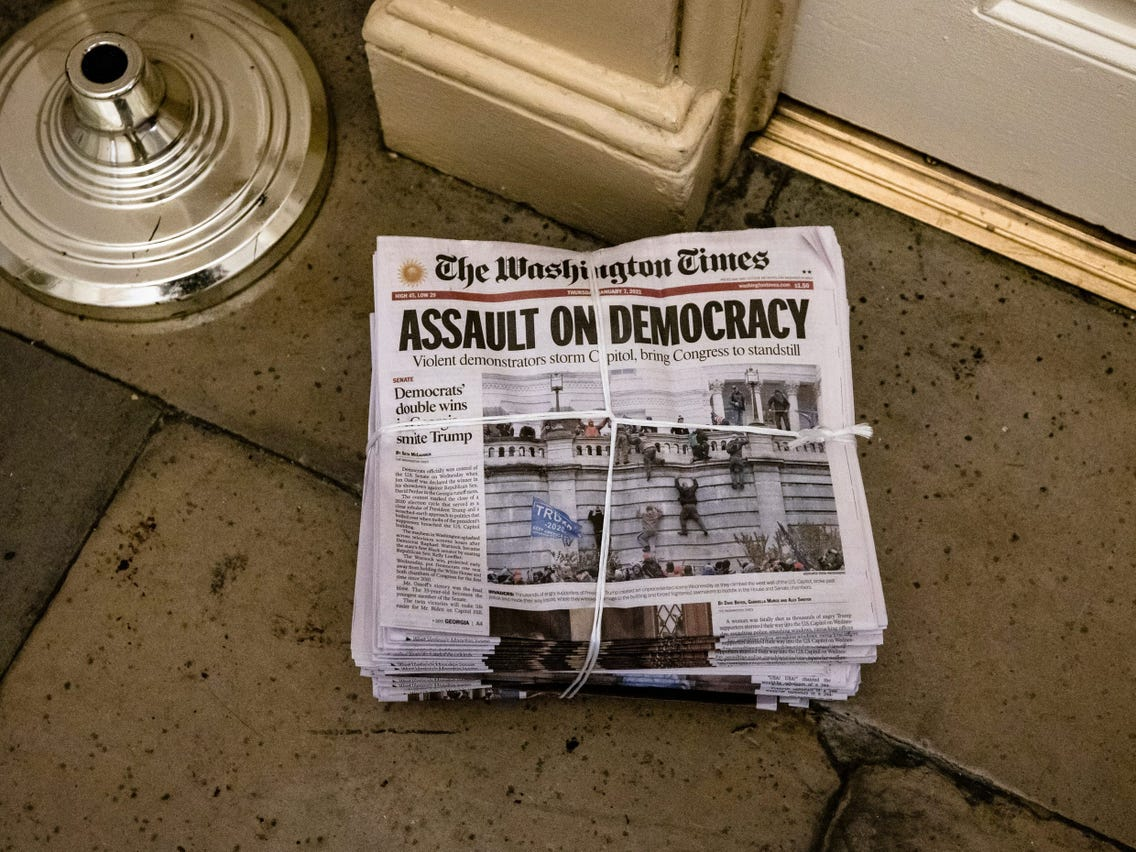news_paper: (347, 229, 918, 745)
